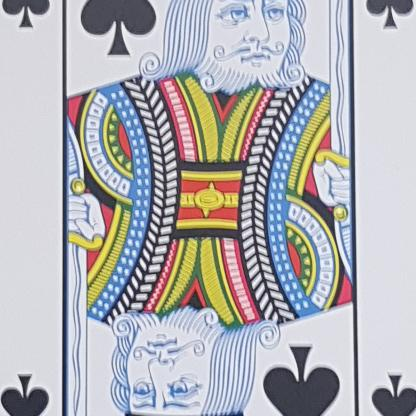Ks: (0, 367, 62, 415), (354, 0, 415, 41), (0, 0, 60, 41)
